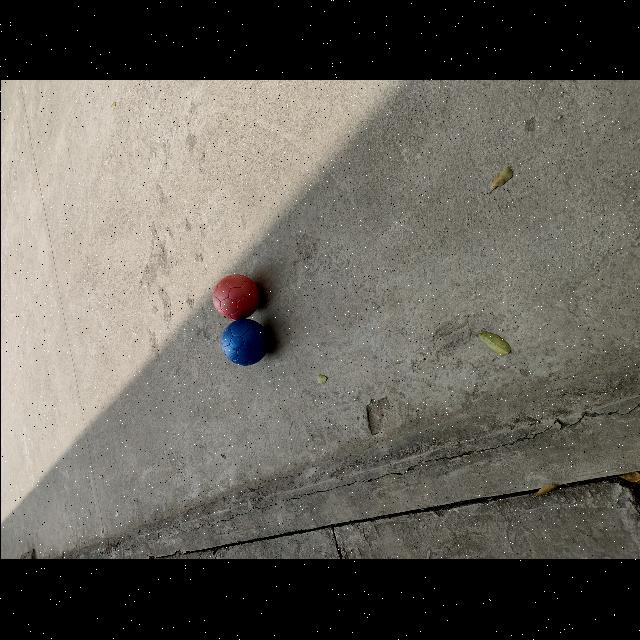B: (221, 320, 268, 367)
R: (212, 274, 259, 320)
